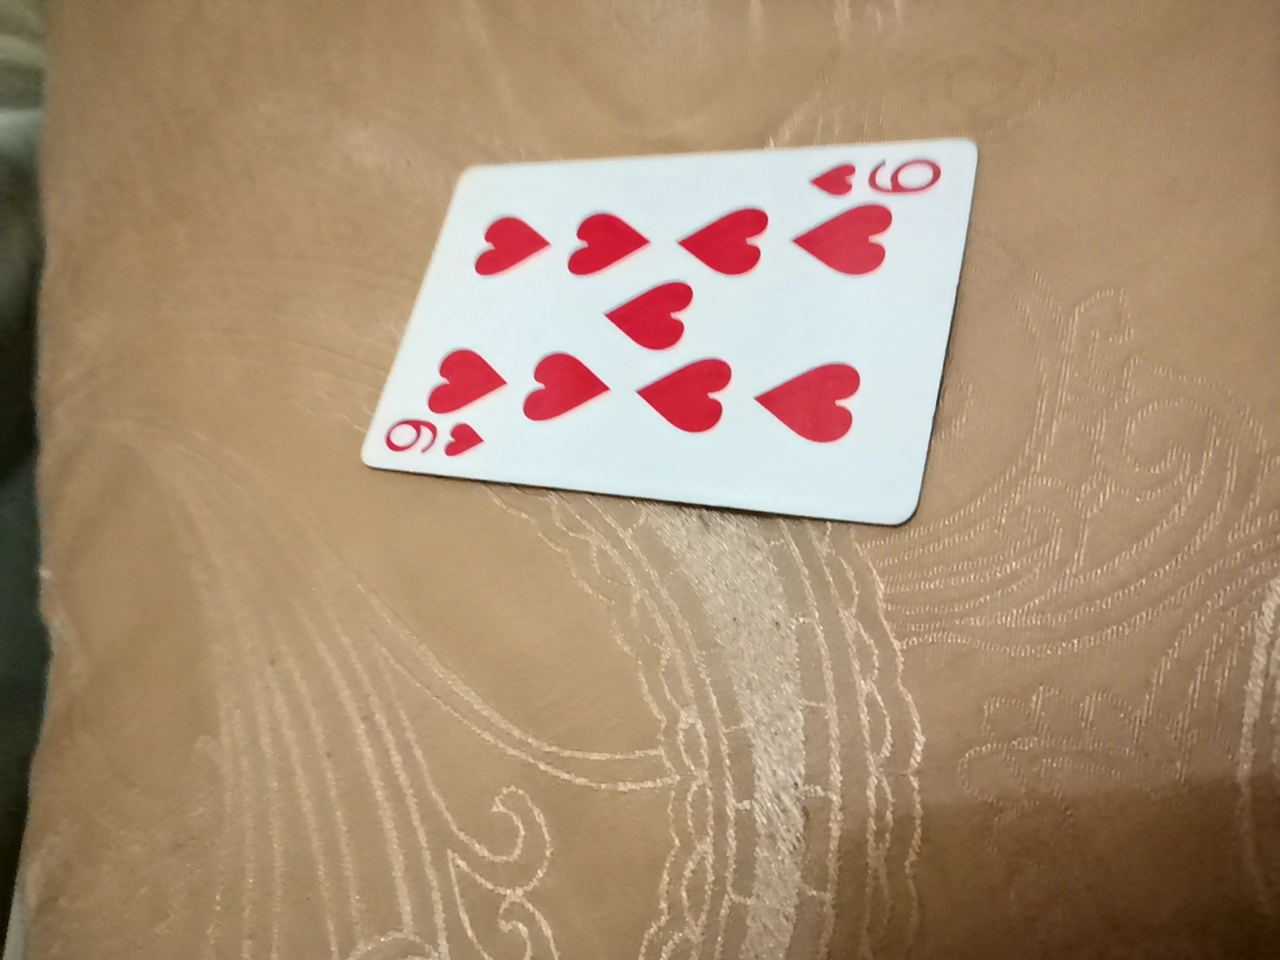hx 9: (370, 187, 962, 560)
